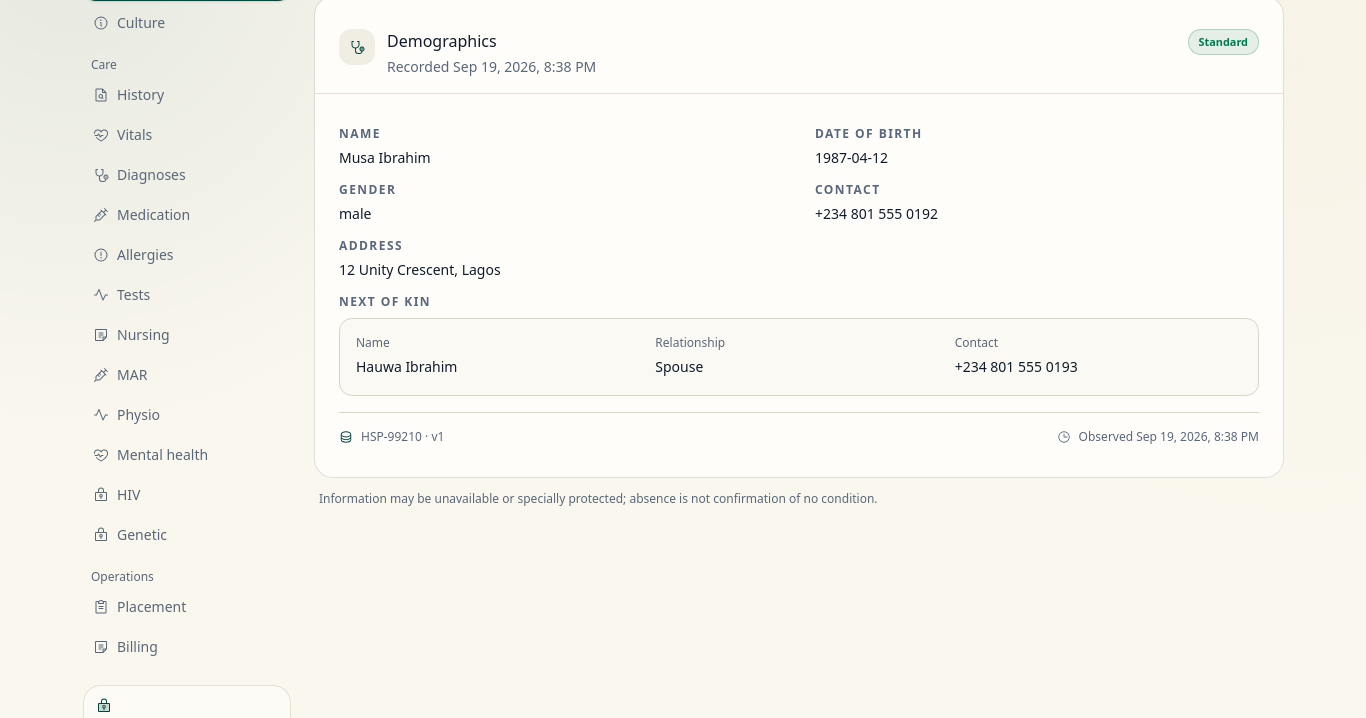
Test: shows a patient workspace and an in-context nursing write form
The image size is (1366, 718).
(page scrolled)
Click the button "Nursing". click: (187, 335)
box: [83, 317, 291, 353]
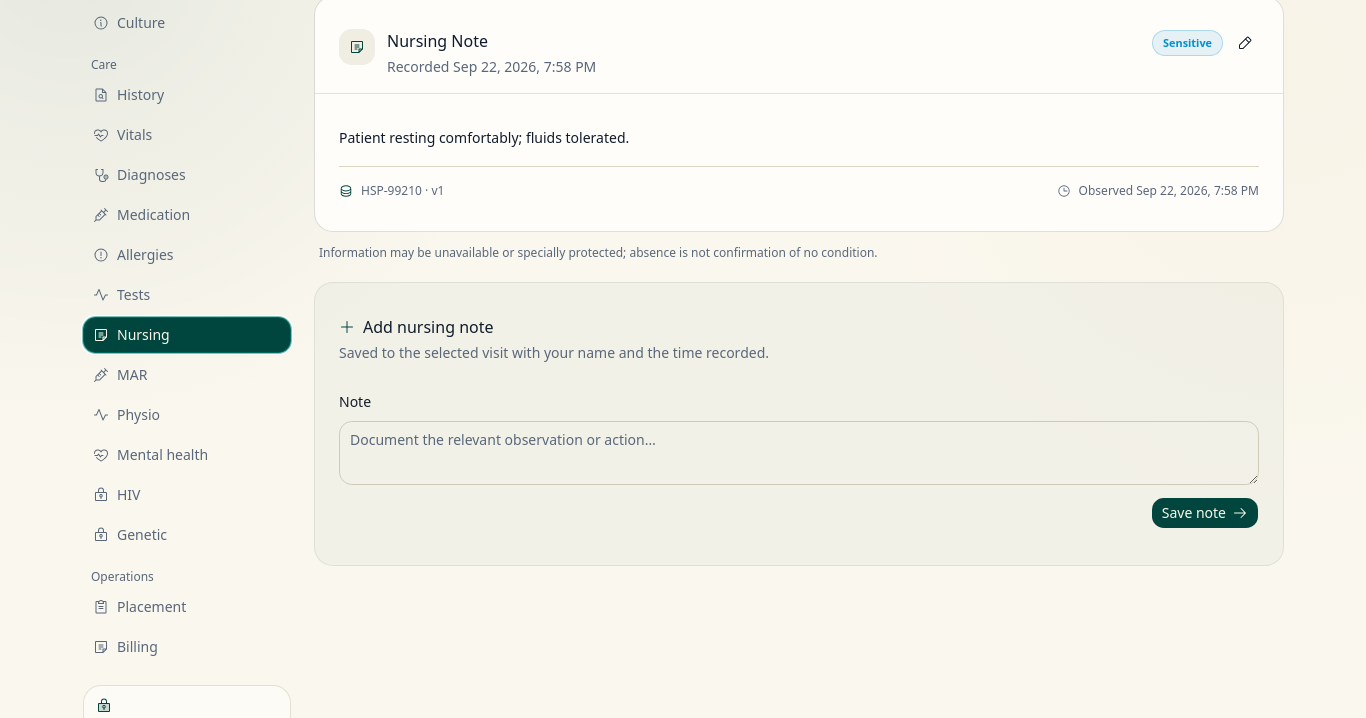
Check: the text "Add nursing note" is shown, box [339, 316, 494, 338]
Check: the text "Patient resting comfortably; fluids tolerated." is shown, box [339, 128, 629, 147]
